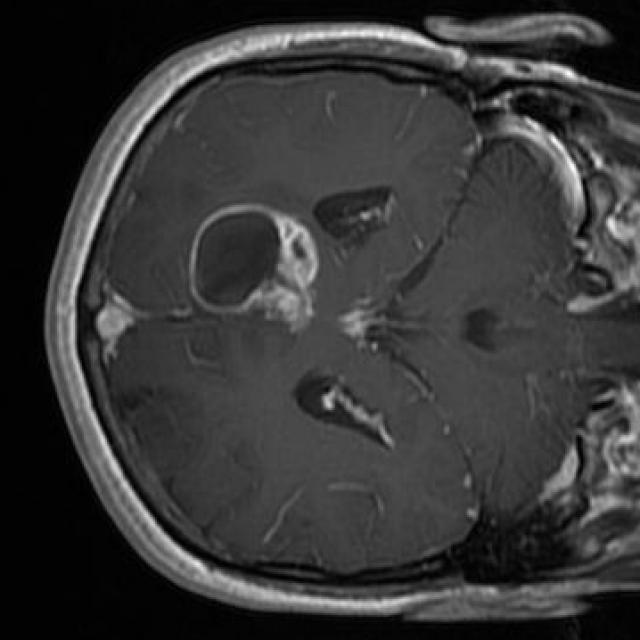glioma: (189, 203, 316, 333)
